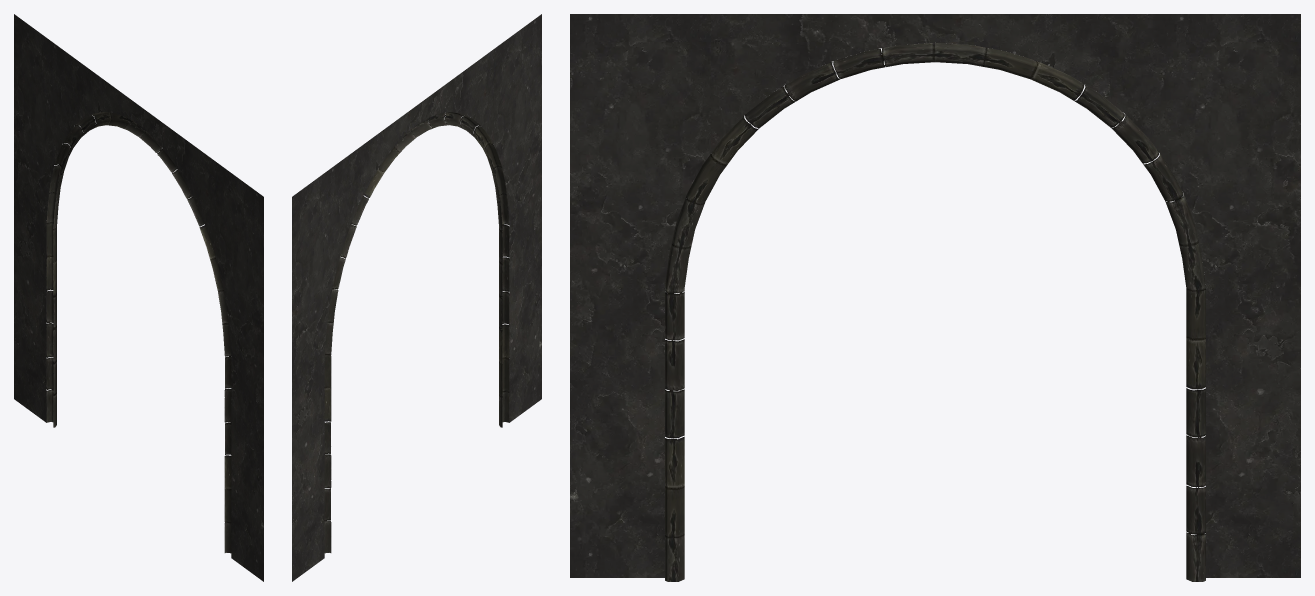
3 views of the same model, side by side, from view 1: azimuth 30°, elevation 25°; view 2: azimuth 150°, elevation 25°; view 3: azimuth 270°, elevation 25° (orthographic). The views are drawn at different scales.
Visible parts, largest first — view 1: SM_Dowdun_Vaulted_Stepdown_16x10_01_LOD0; view 2: SM_Dowdun_Vaulted_Stepdown_16x10_01_LOD0; view 3: SM_Dowdun_Vaulted_Stepdown_16x10_01_LOD0.
Boxes of the visible parts, x1,y1,x2,y2 form: SM_Dowdun_Vaulted_Stepdown_16x10_01_LOD0: [14, 14, 263, 581]; SM_Dowdun_Vaulted_Stepdown_16x10_01_LOD0: [292, 14, 541, 581]; SM_Dowdun_Vaulted_Stepdown_16x10_01_LOD0: [570, 14, 1300, 581].
Bounding box in the file's own units: 0.2 × 12.65 × 14.86.
2 materials, 2 textured.
